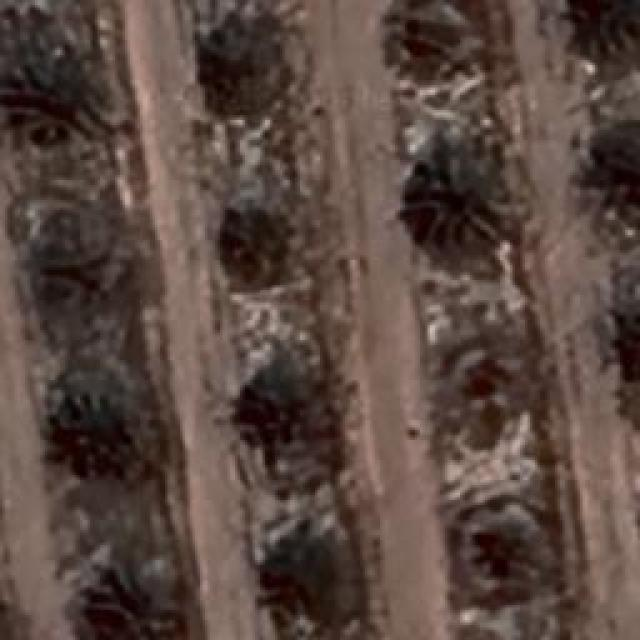PalmTree: (29, 100, 311, 579), (103, 113, 626, 331), (405, 140, 505, 258), (45, 398, 155, 488), (5, 48, 105, 142), (90, 560, 200, 640), (42, 222, 136, 312), (465, 502, 543, 606), (234, 365, 316, 453), (220, 195, 295, 288), (445, 345, 525, 425), (204, 18, 278, 92), (396, 2, 474, 68), (597, 118, 640, 203), (570, 0, 640, 52), (621, 290, 640, 380)
